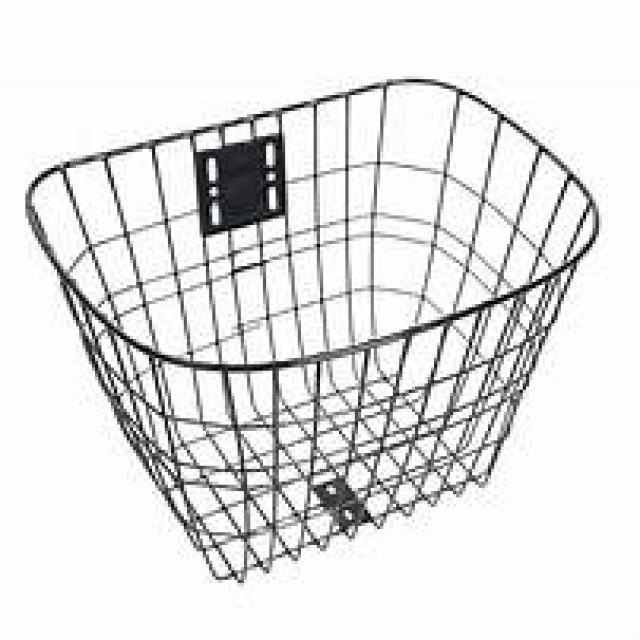basket: (22, 73, 598, 582)
